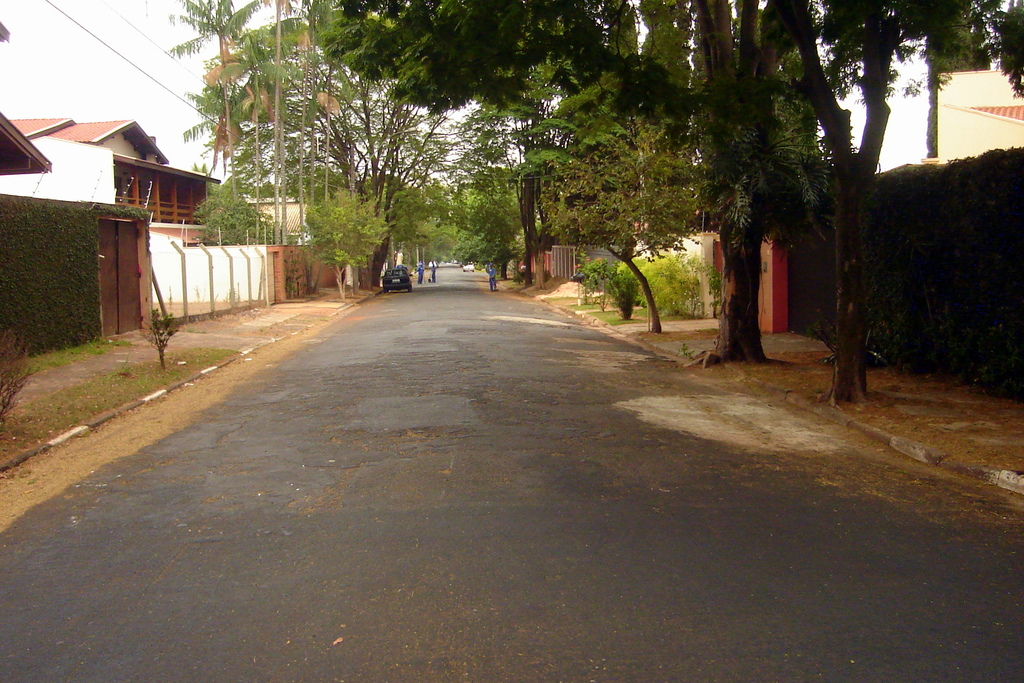Tree: (306, 0, 1023, 384), (161, 0, 506, 289), (304, 190, 392, 314), (188, 167, 275, 246)
